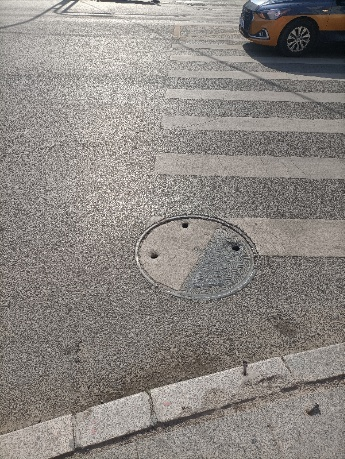broke: (134, 214, 259, 298)
